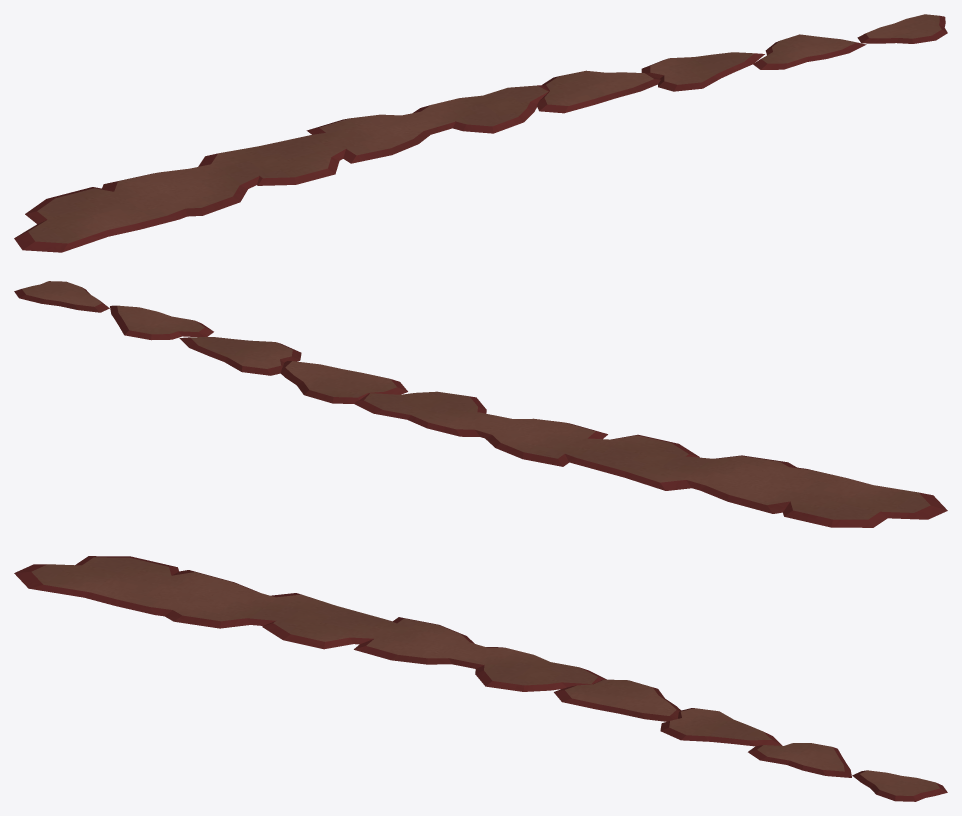
The model's file is gore_smear.glb.
The picture shows the model from 3 angles, top to bottom: view 1: azimuth 30°, elevation 25°; view 2: azimuth 150°, elevation 25°; view 3: azimuth 330°, elevation 25°; orthographic projection.
Visible parts, largest first — view 1: NC_gore_smear; view 2: NC_gore_smear; view 3: NC_gore_smear.
Part boxes in pixels (x1=…): NC_gore_smear: x1=14, y1=14, x2=947, y2=252; NC_gore_smear: x1=14, y1=281, x2=947, y2=527; NC_gore_smear: x1=14, y1=556, x2=947, y2=801.
Bounding box in the file's own units: 1.99 × 0.00826 × 0.2494.
Materials: 2 (2 with a texture image).
